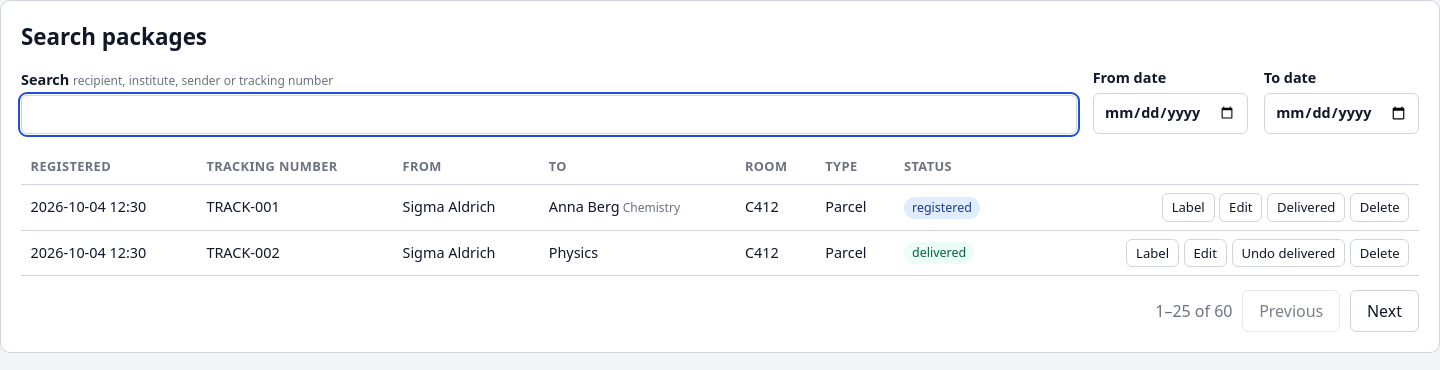
it: pages through long results
This screenshot has width=1440, height=370.
Expected: the text "TRACK-001" is shown, [197,185,393,230]
Expected: the text "1–25 of 60" is shown, [1155,300,1232,322]
What coordinates should you click on to do the following:
click the button "Next"
I would click on:
 (1384, 311)
Its box is [1350,290,1419,332].
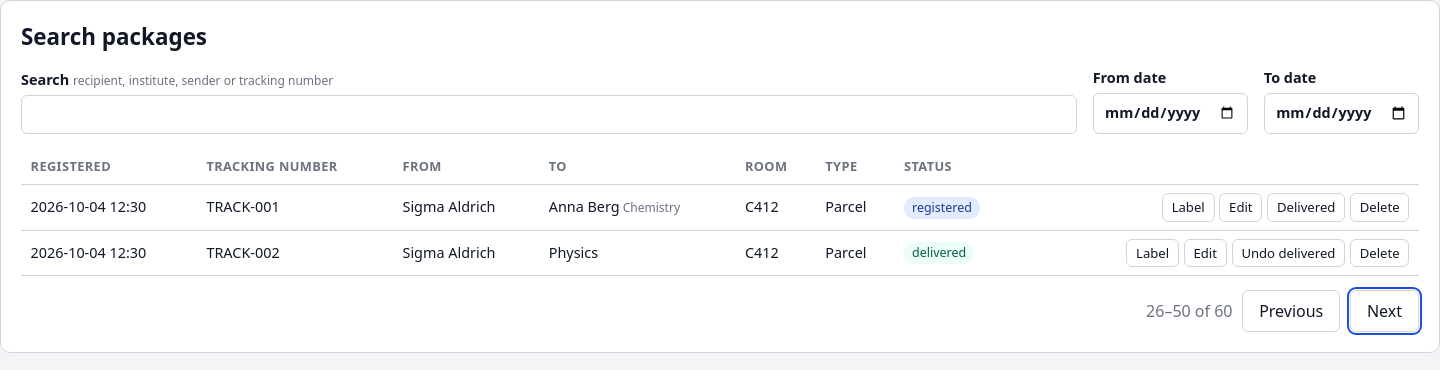
Now the text "26–50 of 60" is shown, box [1146,300,1233,322]
